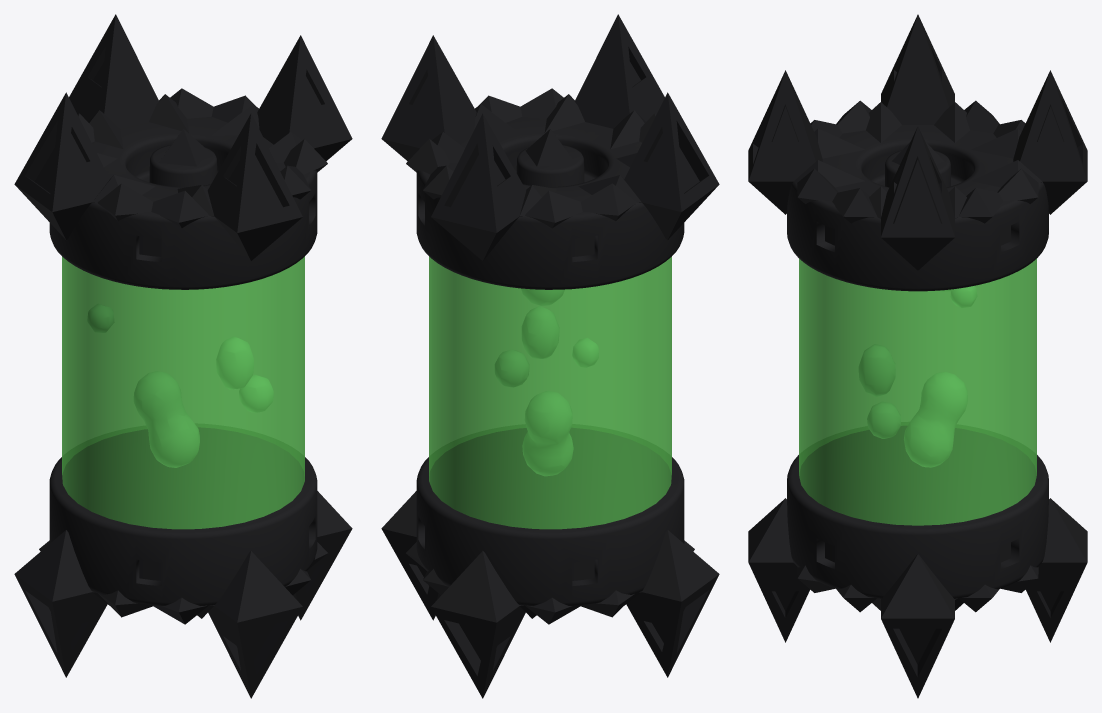
File: CONTAINER_Grün.fbx
3 views of the same model, side by side, from view 1: azimuth 30°, elevation 25°; view 2: azimuth 150°, elevation 25°; view 3: azimuth 270°, elevation 25° (orthographic). The views are drawn at different scales.
Visible parts, largest first — view 1: TopAndBottom, Glass_Grün, Virus; view 2: TopAndBottom, Glass_Grün, Virus; view 3: TopAndBottom, Glass_Grün, Virus.
Boxes of the visible parts, bbox=[...] form: TopAndBottom: bbox=[14, 14, 352, 698]; Glass_Grün: bbox=[62, 256, 304, 529]; Virus: bbox=[87, 304, 273, 467]; TopAndBottom: bbox=[381, 14, 719, 698]; Glass_Grün: bbox=[429, 256, 671, 529]; Virus: bbox=[495, 289, 598, 475]; TopAndBottom: bbox=[748, 14, 1087, 698]; Glass_Grün: bbox=[799, 258, 1036, 525]; Virus: bbox=[859, 286, 976, 467].
Size of the model in its own units: 13.9 by 13.9 by 25.92.
